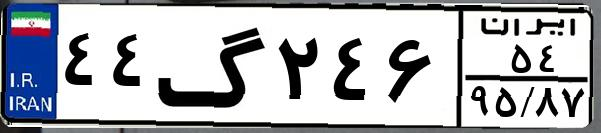2: (270, 28, 330, 110)
4: (330, 28, 385, 110), (57, 26, 110, 100), (110, 28, 156, 98), (537, 27, 568, 80)
5: (508, 27, 537, 80), (495, 70, 520, 125)
6: (385, 28, 445, 110)
7: (560, 70, 590, 125)
8: (535, 70, 560, 125)
9: (470, 70, 495, 125)
گ: (156, 12, 270, 120)
